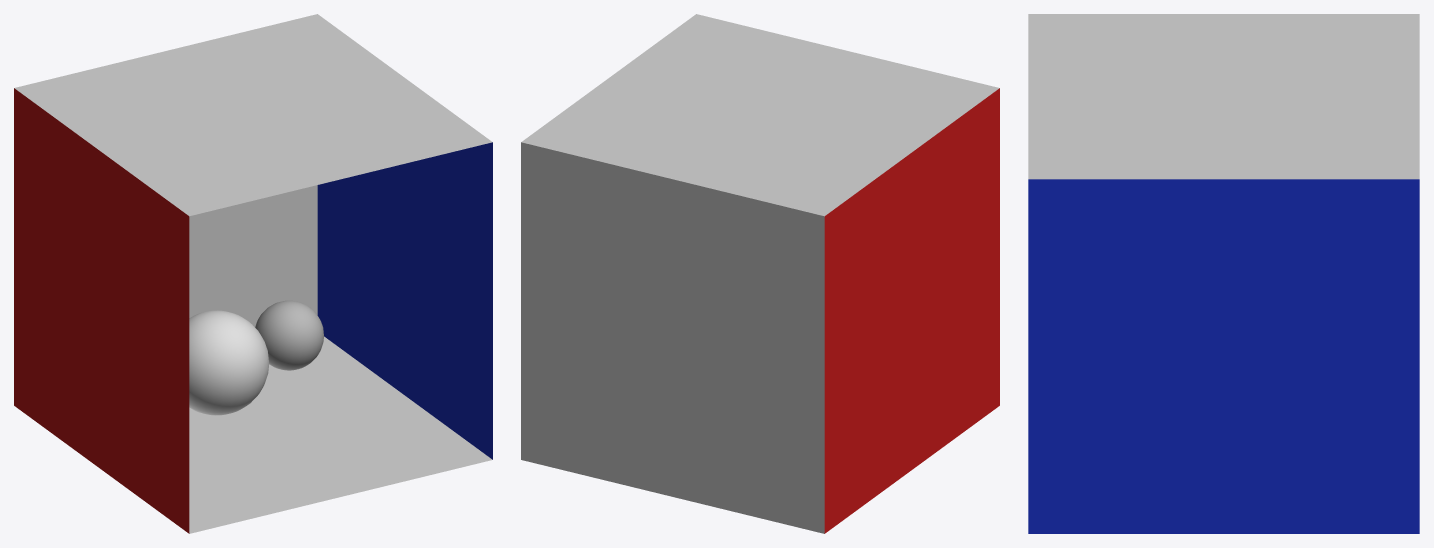
The model's file is cornell.obj.
3 views of the same model, side by side, from view 1: azimuth 30°, elevation 25°; view 2: azimuth 150°, elevation 25°; view 3: azimuth 270°, elevation 25° (orthographic). The views are drawn at different scales.
Parts seen in each view (by area): view 1: mat_3, mat_1, mat_4, mat_0, mat_2, mat_6, mat_7; view 2: mat_2, mat_3, mat_1; view 3: mat_4, mat_1.
Part boxes in pixels (left/top/right/bottom): mat_3: left=14, top=88, right=189, bottom=533; mat_1: left=14, top=14, right=492, bottom=216; mat_4: left=317, top=142, right=492, bottom=459; mat_0: left=189, top=336, right=492, bottom=533; mat_2: left=189, top=185, right=317, bottom=326; mat_6: left=189, top=310, right=269, bottom=415; mat_7: left=255, top=300, right=323, bottom=370; mat_2: left=521, top=142, right=824, bottom=533; mat_3: left=824, top=88, right=999, bottom=533; mat_1: left=521, top=14, right=999, bottom=216; mat_4: left=1028, top=179, right=1419, bottom=533; mat_1: left=1028, top=14, right=1419, bottom=179.
Bounding box in the file's own units: 2 × 2 × 2.
